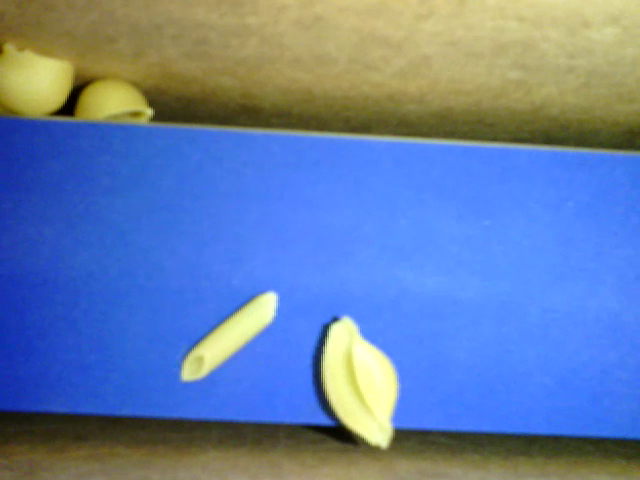penne: (180, 290, 279, 382)
shell: (321, 314, 399, 449), (1, 42, 74, 115), (76, 78, 152, 121)
